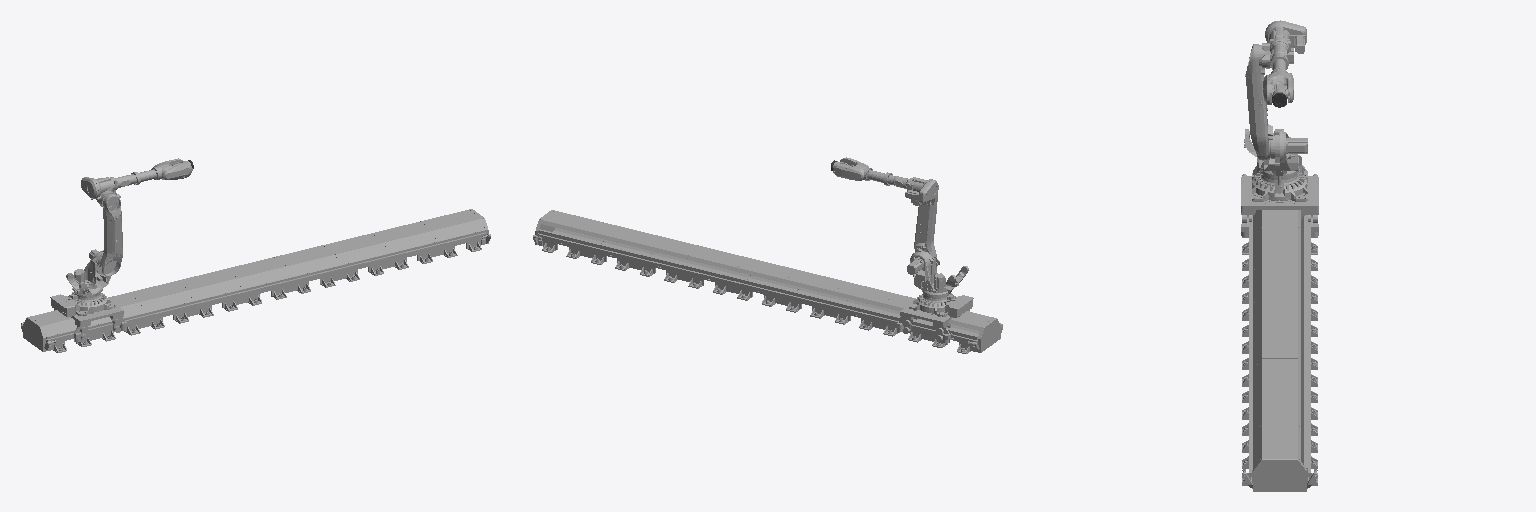
URDF robot description (CombinedRobot):
<?xml version="1.0" ?>
<robot name="CombinedRobot">
  <!-- Linear Axis Links -->
  <link name="base_link">
    <inertial>
      <origin xyz="0 0 0" rpy="0 0 0"/>
      <mass value="200.0"/>
      <inertia ixx="2.0" ixy="0.0" ixz="0.0" iyy="2.0" iyz="0.0" izz="2.0"/>
    </inertial>
    <collision name="collision">
      <geometry>
        <mesh filename="linear_axis/meshes/collision/base_link.obj"/>
      </geometry>
      <material name="grey">
        <color rgba="0.7 0.7 0.7 1.0"/>
      </material>
    </collision>
    <visual name="visual">
      <geometry>
        <mesh filename="linear_axis/meshes/visual/base_link.obj"/>
      </geometry>
      <material name="grey">
        <color rgba="0.7 0.7 0.7 1.0"/>
      </material>
    </visual>
  </link>
  <link name="linear_axis_link_1">
    <inertial>
      <origin xyz="0 0 0" rpy="0 0 0"/>
      <mass value="50.0"/>
      <inertia ixx="0.5" ixy="0.0" ixz="0.0" iyy="0.5" iyz="0.0" izz="0.5"/>
    </inertial>
    <collision name="collision">
      <geometry>
        <mesh filename="linear_axis/meshes/collision/link_1.obj"/>
      </geometry>
      <material name="grey">
        <color rgba="0.7 0.7 0.7 1.0"/>
      </material>
    </collision>
    <visual name="visual">
      <geometry>
        <mesh filename="linear_axis/meshes/visual/link_1.obj"/>
      </geometry>
      <material name="grey">
        <color rgba="0.7 0.7 0.7 1.0"/>
      </material>
    </visual>
  </link>

  <!-- ABB Robot Links -->
  <link name="abb_base_link">
    <inertial>
      <origin xyz="0 0 0" rpy="0 0 0"/>
      <mass value="100.0"/>
      <inertia ixx="1.0" ixy="0.0" ixz="0.0" iyy="1.0" iyz="0.0" izz="1.0"/>
    </inertial>
    <collision name="collision">
      <geometry>
        <mesh filename="abb_irb6700_150_320/meshes/collision/base_link.obj"/>
      </geometry>
      <material name="grey">
        <color rgba="0.7 0.7 0.7 1"/>
      </material>
    </collision>
    <visual name="visual">
      <geometry>
        <mesh filename="abb_irb6700_150_320/meshes/visual/base_link.obj"/>
      </geometry>
      <material name="grey">
        <color rgba="0.7 0.7 0.7 1"/>
      </material>
    </visual>
  </link>
  <link name="abb_link_1">
    <inertial>
      <origin xyz="0 0 0" rpy="0 0 0"/>
      <mass value="50.0"/>
      <inertia ixx="0.5" ixy="0.0" ixz="0.0" iyy="0.5" iyz="0.0" izz="0.5"/>
    </inertial>
    <collision name="collision">
      <geometry>
        <mesh filename="abb_irb6700_150_320/meshes/collision/link_1.obj"/>
      </geometry>
      <material name="grey">
        <color rgba="0.7 0.7 0.7 1"/>
      </material>
    </collision>
    <visual name="visual">
      <geometry>
        <mesh filename="abb_irb6700_150_320/meshes/visual/link_1.obj"/>
      </geometry>
      <material name="grey">
        <color rgba="0.7 0.7 0.7 1"/>
      </material>
    </visual>
  </link>
  <link name="abb_link_2">
    <inertial>
      <origin xyz="0 0 0" rpy="0 0 0"/>
      <mass value="40.0"/>
      <inertia ixx="0.4" ixy="0.0" ixz="0.0" iyy="0.4" iyz="0.0" izz="0.4"/>
    </inertial>
    <collision name="collision">
      <geometry>
        <mesh filename="abb_irb6700_150_320/meshes/collision/link_2.obj"/>
      </geometry>
      <material name="grey">
        <color rgba="0.7 0.7 0.7 1"/>
      </material>
    </collision>
    <visual name="visual">
      <geometry>
        <mesh filename="abb_irb6700_150_320/meshes/visual/link_2.obj"/>
      </geometry>
      <material name="grey">
        <color rgba="0.7 0.7 0.7 1"/>
      </material>
    </visual>
  </link>
  <link name="abb_link_3">
    <inertial>
      <origin xyz="0 0 0" rpy="0 0 0"/>
      <mass value="30.0"/>
      <inertia ixx="0.3" ixy="0.0" ixz="0.0" iyy="0.3" iyz="0.0" izz="0.3"/>
    </inertial>
    <collision name="collision">
      <geometry>
        <mesh filename="abb_irb6700_150_320/meshes/collision/link_3.obj"/>
      </geometry>
      <material name="grey">
        <color rgba="0.7 0.7 0.7 1"/>
      </material>
    </collision>
    <visual name="visual">
      <geometry>
        <mesh filename="abb_irb6700_150_320/meshes/visual/link_3.obj"/>
      </geometry>
      <material name="grey">
        <color rgba="0.7 0.7 0.7 1"/>
      </material>
    </visual>
  </link>
  <link name="abb_link_4">
    <inertial>
      <origin xyz="0 0 0" rpy="0 0 0"/>
      <mass value="20.0"/>
      <inertia ixx="0.2" ixy="0.0" ixz="0.0" iyy="0.2" iyz="0.0" izz="0.2"/>
    </inertial>
    <collision name="collision">
      <geometry>
        <mesh filename="abb_irb6700_150_320/meshes/collision/link_4.obj"/>
      </geometry>
      <material name="grey">
        <color rgba="0.7 0.7 0.7 1"/>
      </material>
    </collision>
    <visual name="visual">
      <geometry>
        <mesh filename="abb_irb6700_150_320/meshes/visual/link_4.obj"/>
      </geometry>
      <material name="grey">
        <color rgba="0.7 0.7 0.7 1"/>
      </material>
    </visual>
  </link>
  <link name="abb_link_5">
    <inertial>
      <origin xyz="0 0 0" rpy="0 0 0"/>
      <mass value="10.0"/>
      <inertia ixx="0.1" ixy="0.0" ixz="0.0" iyy="0.1" iyz="0.0" izz="0.1"/>
    </inertial>
    <collision name="collision">
      <geometry>
        <mesh filename="abb_irb6700_150_320/meshes/collision/link_5.obj"/>
      </geometry>
      <material name="grey">
        <color rgba="0.7 0.7 0.7 1"/>
      </material>
    </collision>
    <visual name="visual">
      <geometry>
        <mesh filename="abb_irb6700_150_320/meshes/visual/link_5.obj"/>
      </geometry>
      <material name="grey">
        <color rgba="0.7 0.7 0.7 1"/>
      </material>
    </visual>
  </link>
  <link name="abb_link_6">
    <inertial>
      <origin xyz="0 0 0" rpy="0 0 0"/>
      <mass value="5.0"/>
      <inertia ixx="0.05" ixy="0.0" ixz="0.0" iyy="0.05" iyz="0.0" izz="0.05"/>
    </inertial>
    <collision name="collision">
      <geometry>
        <mesh filename="abb_irb6700_150_320/meshes/collision/link_6.obj"/>
      </geometry>
      <material name="grey">
        <color rgba="0.3 0.3 0.3 1"/>
      </material>
    </collision>
    <visual name="visual">
      <geometry>
        <mesh filename="abb_irb6700_150_320/meshes/visual/link_6.obj"/>
      </geometry>
      <material name="grey">
        <color rgba="0.3 0.3 0.3 1"/>
      </material>
    </visual>
  </link>
  <link name="abb_flange">
    <inertial>
      <origin xyz="0 0 0" rpy="0 0 0"/>
      <mass value="1.0"/>
      <inertia ixx="0.01" ixy="0.0" ixz="0.0" iyy="0.01" iyz="0.0" izz="0.01"/>
    </inertial>
  </link>

  <!-- Joints -->
  <joint name="linear_axis_joint" type="prismatic">
    <origin rpy="0 0 0" xyz="0 0 0"/>
    <axis xyz="1 0 0"/>
    <parent link="base_link"/>
    <child link="linear_axis_link_1"/>
    <limit effort="1000" lower="-0.41" upper="7.3" velocity="1.0"/>
    <dynamics damping="0.1" friction="0.2"/>
  </joint>
  <joint name="linear_axis_to_abb" type="fixed">
    <origin rpy="0 0 0" xyz="0.6 0.43 0.55"/>
    <parent link="linear_axis_link_1"/>
    <child link="abb_base_link"/>
  </joint>
  <joint name="abb_joint_1" type="revolute">
    <origin rpy="0 0 0" xyz="0 0 0.780"/>
    <axis xyz="0 0 1"/>
    <parent link="abb_base_link"/>
    <child link="abb_link_1"/>
    <limit effort="0" lower="-2.9670597283903604" upper="2.9670597283903604" velocity="1.7453292519943295"/>
    <dynamics damping="0.05" friction="0.1"/>
  </joint>
  <joint name="abb_joint_2" type="revolute">
    <origin rpy="0 0 0" xyz="0.320 0 0"/>
    <axis xyz="0 1 0"/>
    <parent link="abb_link_1"/>
    <child link="abb_link_2"/>
    <limit effort="0" lower="-1.1344640137963142" upper="1.4835298641951802" velocity="1.5707963267948966"/>
    <dynamics damping="0.05" friction="0.1"/>
  </joint>
  <joint name="abb_joint_3" type="revolute">
    <origin rpy="0 0 0" xyz="0 0 1.280"/>
    <axis xyz="0 1 0"/>
    <parent link="abb_link_2"/>
    <child link="abb_link_3"/>
    <limit effort="0" lower="-3.141592653589793" upper="1.2217304763960306" velocity="1.5707963267948966"/>
    <dynamics damping="0.05" friction="0.1"/>
  </joint>
  <joint name="abb_joint_4" type="revolute">
    <origin rpy="0 0 0" xyz="0 0 0.200"/>
    <axis xyz="1 0 0"/>
    <parent link="abb_link_3"/>
    <child link="abb_link_4"/>
    <limit effort="0" lower="-5.235987755982989" upper="5.235987755982989" velocity="2.9670597283903604"/>
    <dynamics damping="0.05" friction="0.1"/>
  </joint>
  <joint name="abb_joint_5" type="revolute">
    <origin rpy="0 0 0" xyz="1.5925 0 0"/>
    <axis xyz="0 1 0"/>
    <parent link="abb_link_4"/>
    <child link="abb_link_5"/>
    <limit effort="0" lower="-2.2689280275926285" upper="2.2689280275926285" velocity="2.0943951023931953"/>
    <dynamics damping="0.05" friction="0.1"/>
  </joint>
  <joint name="abb_joint_6" type="revolute">
    <origin rpy="0 0 0" xyz="0.200 0 0"/>
    <axis xyz="1 0 0"/>
    <parent link="abb_link_5"/>
    <child link="abb_link_6"/>
    <limit effort="0" lower="-6.283185307179586" upper="6.283185307179586" velocity="3.3161255787892263"/>
    <dynamics damping="0.05" friction="0.1"/>
  </joint>
  <joint name="abb_joint_6-flange" type="fixed">
    <origin rpy="0 1.5707963267948966 0" xyz="0 0 0"/>
    <parent link="abb_link_6"/>
    <child link="abb_flange"/>
  </joint>
</robot>

--- Facts derived from the render (not from the file) ---
3 views of the same robot in one strip: view 1: azimuth 30°, elevation 25°; view 2: azimuth 150°, elevation 25°; view 3: azimuth 270°, elevation 25° (orthographic).
Model CombinedRobot with 10 links and 9 joints (6 revolute, 1 prismatic, 2 fixed), rooted at base_link, posed all joints at 0.
Visible links, largest first — view 1: base_link, abb_link_2, abb_link_1, abb_link_4, abb_base_link, linear_axis_link_1, abb_link_3; view 2: base_link, abb_link_1, abb_base_link, abb_link_4, abb_link_2, linear_axis_link_1, abb_link_3; view 3: base_link, abb_link_2, linear_axis_link_1, abb_link_1, abb_base_link, abb_link_3, abb_link_4.
Link boxes in pixels (box(x1,y1,x2,y2)): base_link: box(21, 209, 490, 352); abb_link_2: box(95, 194, 122, 275); abb_link_1: box(66, 249, 110, 297); abb_link_4: box(88, 158, 192, 193); abb_base_link: box(50, 292, 115, 317); linear_axis_link_1: box(52, 302, 127, 341); abb_link_3: box(81, 177, 120, 207); base_link: box(533, 210, 1002, 353); abb_link_1: box(907, 248, 968, 296); abb_base_link: box(909, 293, 973, 317); abb_link_4: box(833, 157, 936, 194); abb_link_2: box(914, 194, 939, 266); linear_axis_link_1: box(896, 303, 971, 342); abb_link_3: box(905, 177, 938, 205); base_link: box(1242, 165, 1317, 491); abb_link_2: box(1245, 44, 1272, 160); linear_axis_link_1: box(1241, 176, 1318, 237); abb_link_1: box(1244, 129, 1307, 184); abb_base_link: box(1252, 155, 1307, 201); abb_link_3: box(1259, 20, 1306, 68); abb_link_4: box(1263, 42, 1293, 104).
Size in the robot's own frame: 9.13 by 1 by 3 metres.
9 mesh visuals loaded from 9 distinct referenced files (9 OBJ).